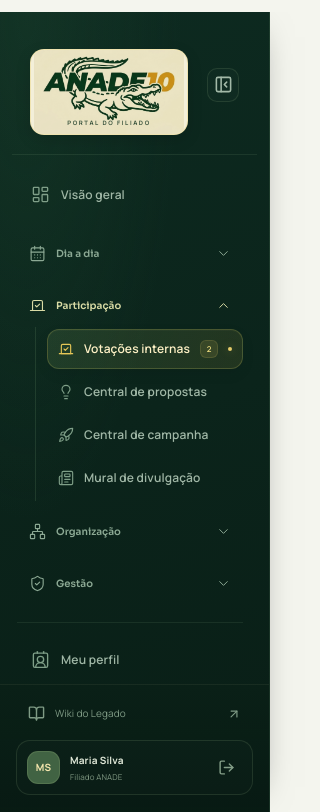
it: preferências inválidas ou armazenamento indisponível não impedem navegação
What coordinates should you click on to do the following:
click the button named "Recolher menu"
I would click on:
 (223, 84)
Its box is [207,68,239,102].
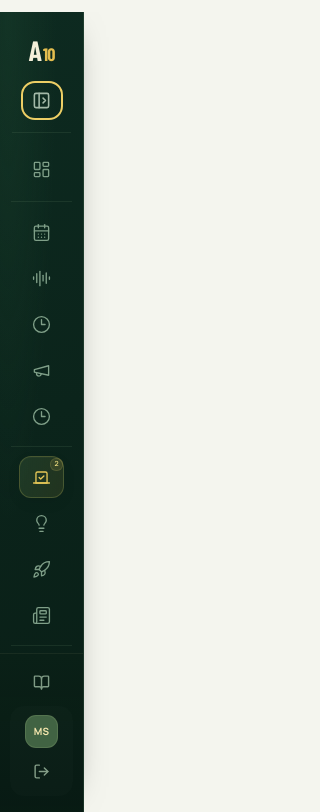
expect the button named "Expandir menu" is shown: met, box [24,85,58,116]
